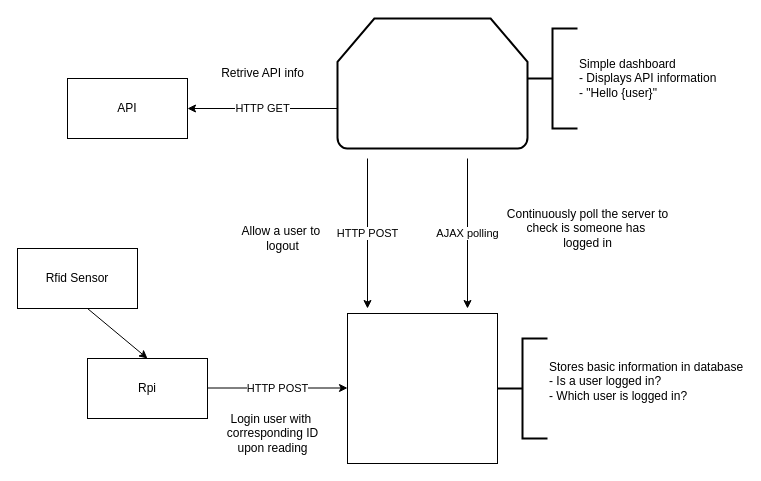
This 761x481 diagram has some shape labels left out. Each missing label, with the centre of its shape:
"Front end webpage" belongs at point 432,83.
"Server Backend" belongs at point 422,388.
